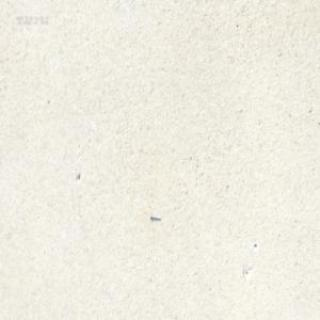Nailtrack_idkeyframe: (149, 212, 160, 221)
